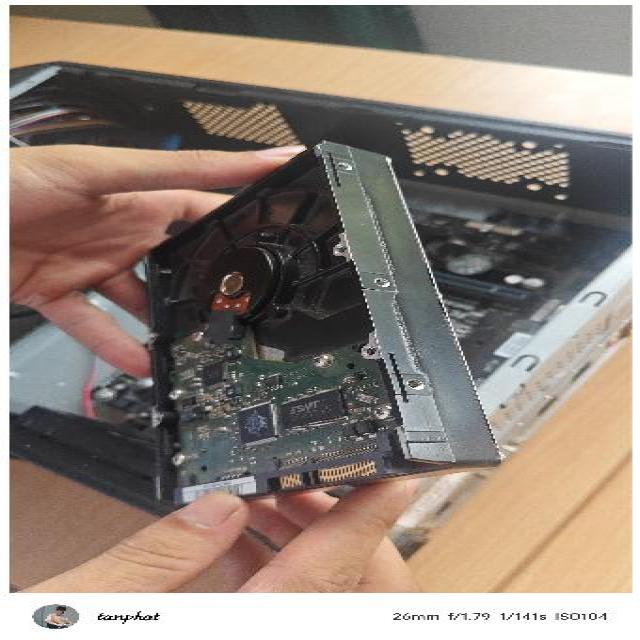DISK: (128, 139, 520, 510)
